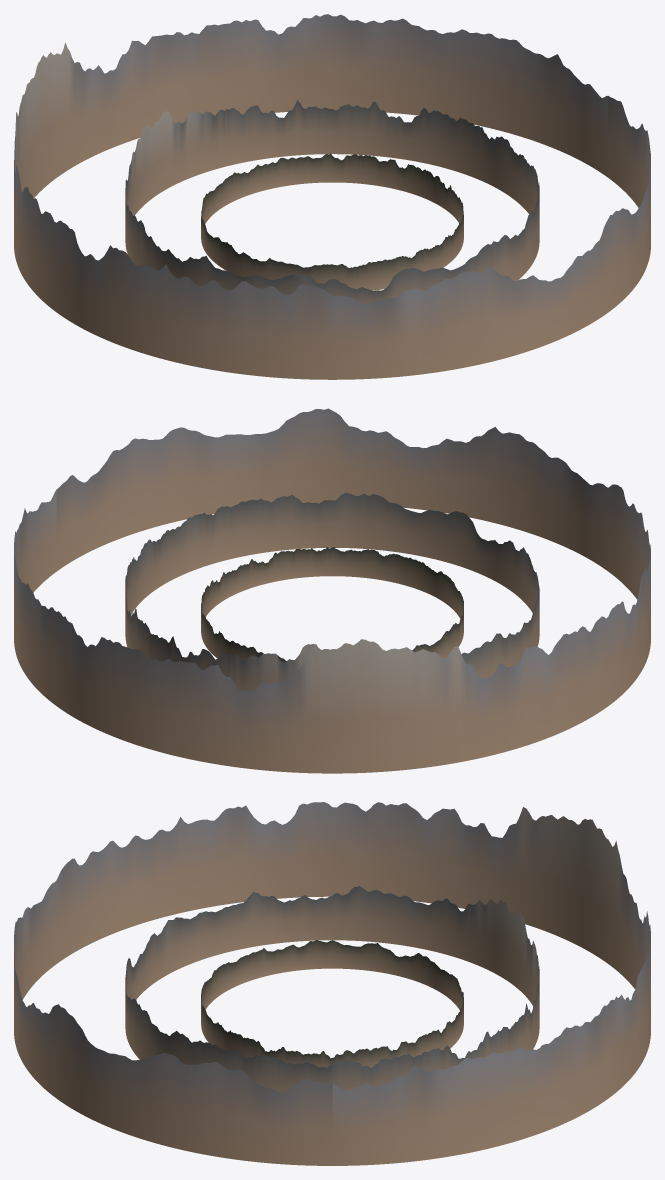
File: SM_Env_Ridges.fbx
3 views of the same model, one above another, from view 1: azimuth 30°, elevation 25°; view 2: azimuth 150°, elevation 25°; view 3: azimuth 270°, elevation 25° (orthographic).
Parts seen in each view (by area): view 1: SM_Env_Ridges; view 2: SM_Env_Ridges; view 3: SM_Env_Ridges.
Part boxes in pixels (x1,y1,x2,y2): SM_Env_Ridges: [14, 14, 650, 379]; SM_Env_Ridges: [14, 408, 650, 773]; SM_Env_Ridges: [14, 802, 650, 1165].
Size of the model in its own units: 1600 by 371 by 1600.
